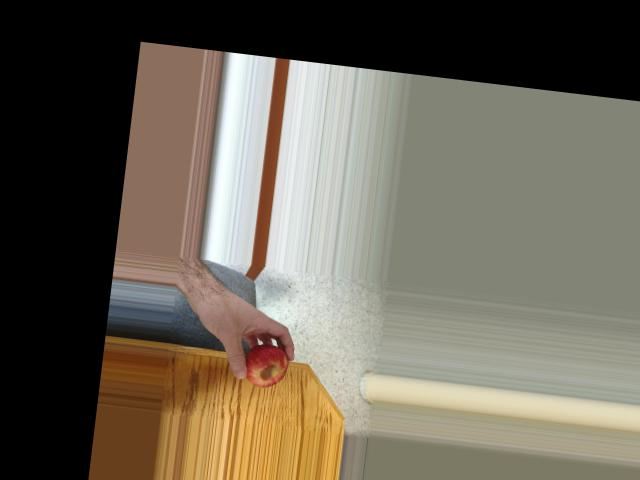apple: (237, 337, 292, 388)
